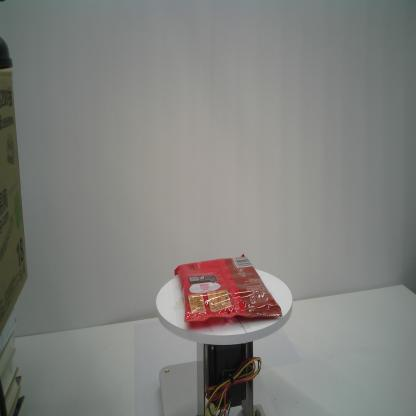Dessert: (174, 253, 283, 324)
